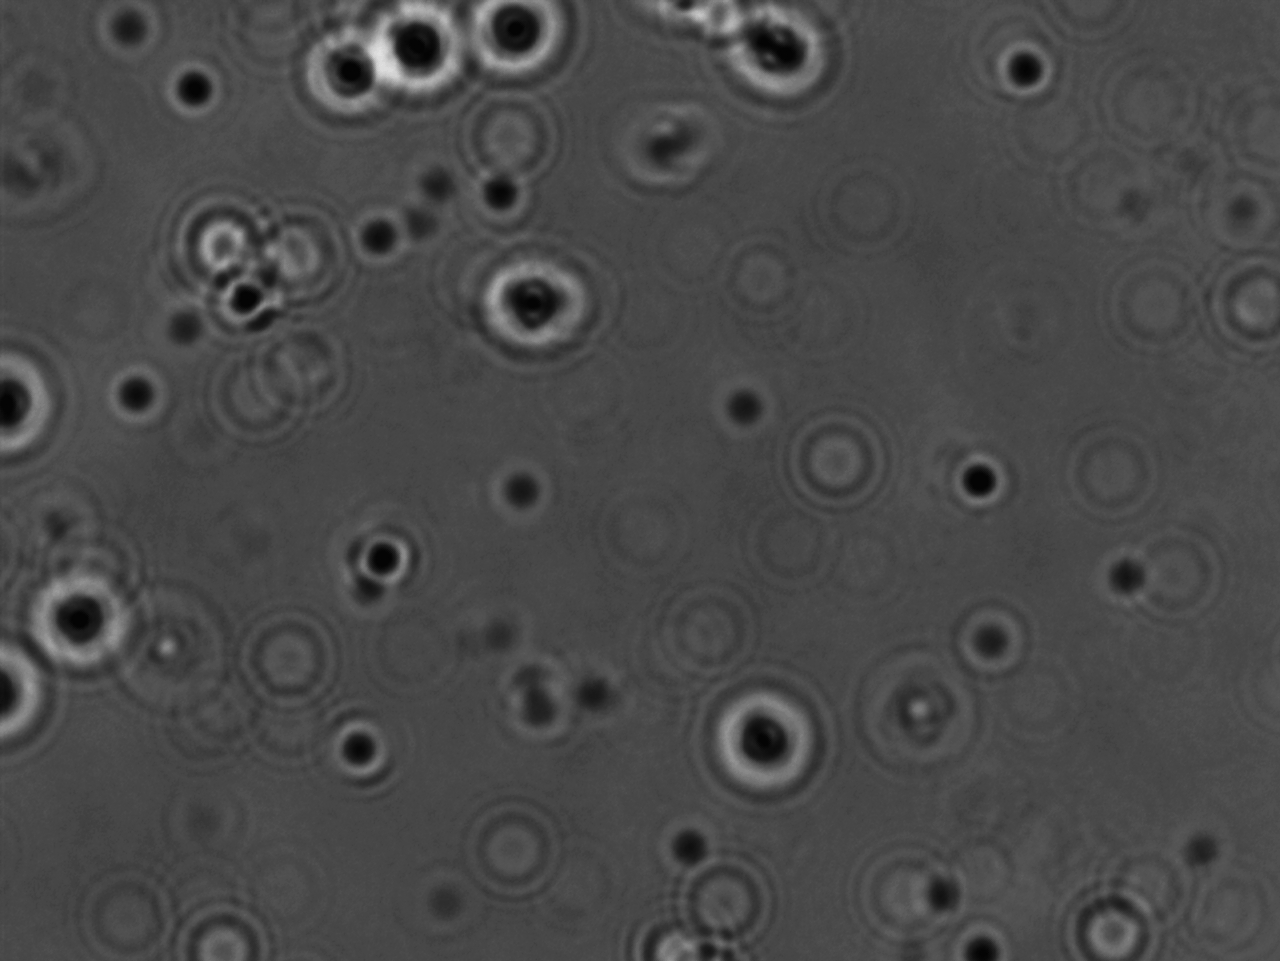depth:-16: (458, 231, 612, 370), (688, 670, 825, 797), (19, 555, 151, 685), (283, 23, 388, 129)
